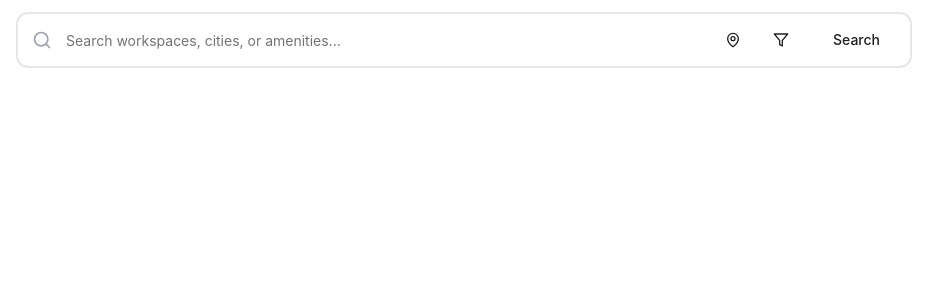
SearchBar Component › Suggestions › should show suggestions with correct types and icons
Type "test" into the field.
click(464, 40); type("test")  # box [16,12,912,68]
Wait 300 ms
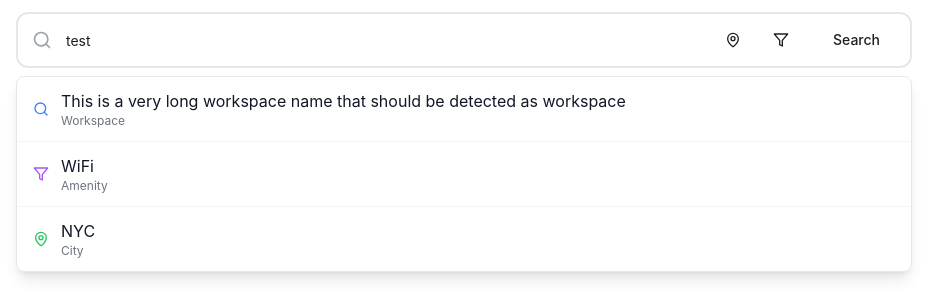
expect the text "workspace" is shown: met, box [61,113,125,128]
expect the text "amenity" is shown: met, box [61,178,108,193]
expect the text "city" is shown: met, box [61,243,84,258]
